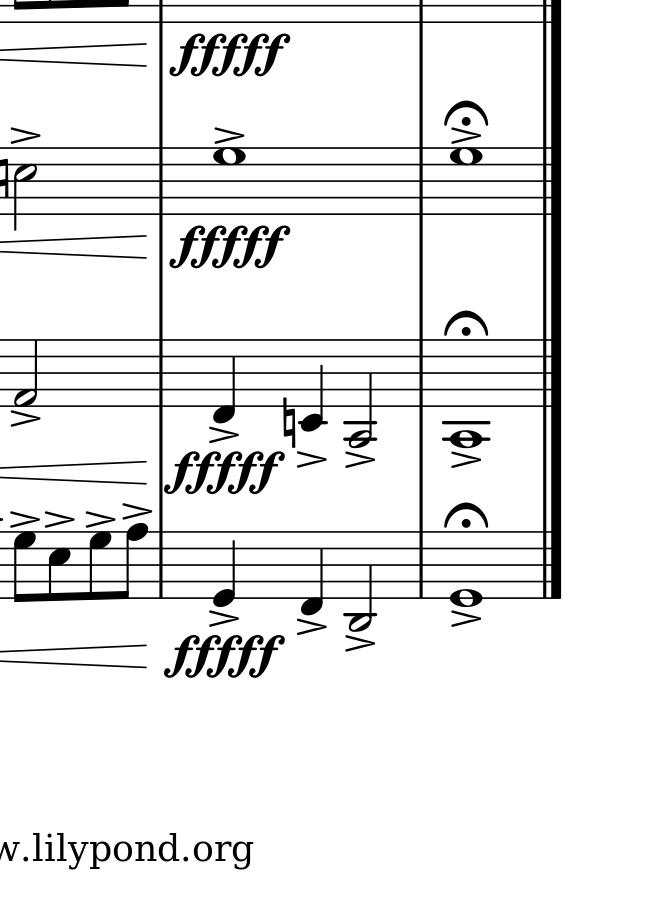1_-4: (442, 337, 488, 450)
1_0: (449, 528, 484, 610)
1_7: (210, 145, 248, 216), (447, 146, 485, 216)
2_-3: (345, 528, 376, 632)
2_-4: (343, 337, 377, 448)
2_1: (13, 337, 40, 409)
2_5: (11, 145, 40, 233)
4_-1: (210, 337, 239, 424), (298, 529, 325, 616)
4_-2: (297, 336, 327, 433)
4_0: (210, 529, 238, 609)
8_5: (46, 530, 71, 604)
8_7: (86, 529, 112, 601), (12, 530, 37, 604)
8_8: (117, 521, 150, 601)
Accent_above: (448, 126, 484, 145), (7, 410, 42, 427), (207, 426, 242, 443), (295, 451, 327, 469), (214, 124, 244, 143), (451, 451, 481, 470), (345, 634, 376, 652), (344, 451, 376, 468), (11, 126, 42, 143), (450, 609, 479, 627), (295, 619, 325, 636), (209, 609, 239, 626)
Fermata_above: (443, 100, 491, 126), (443, 309, 488, 336), (445, 502, 488, 528)
Final_barline: (537, 532, 563, 598), (540, 338, 563, 407), (539, 147, 562, 211)
Natural: (280, 395, 298, 449)
Single_barline: (152, 340, 169, 406), (412, 340, 429, 406), (413, 146, 429, 215), (413, 531, 429, 598), (152, 149, 169, 211), (153, 532, 168, 598)
fffff: (167, 32, 293, 78), (169, 223, 292, 270), (165, 448, 285, 496), (165, 634, 286, 680)
